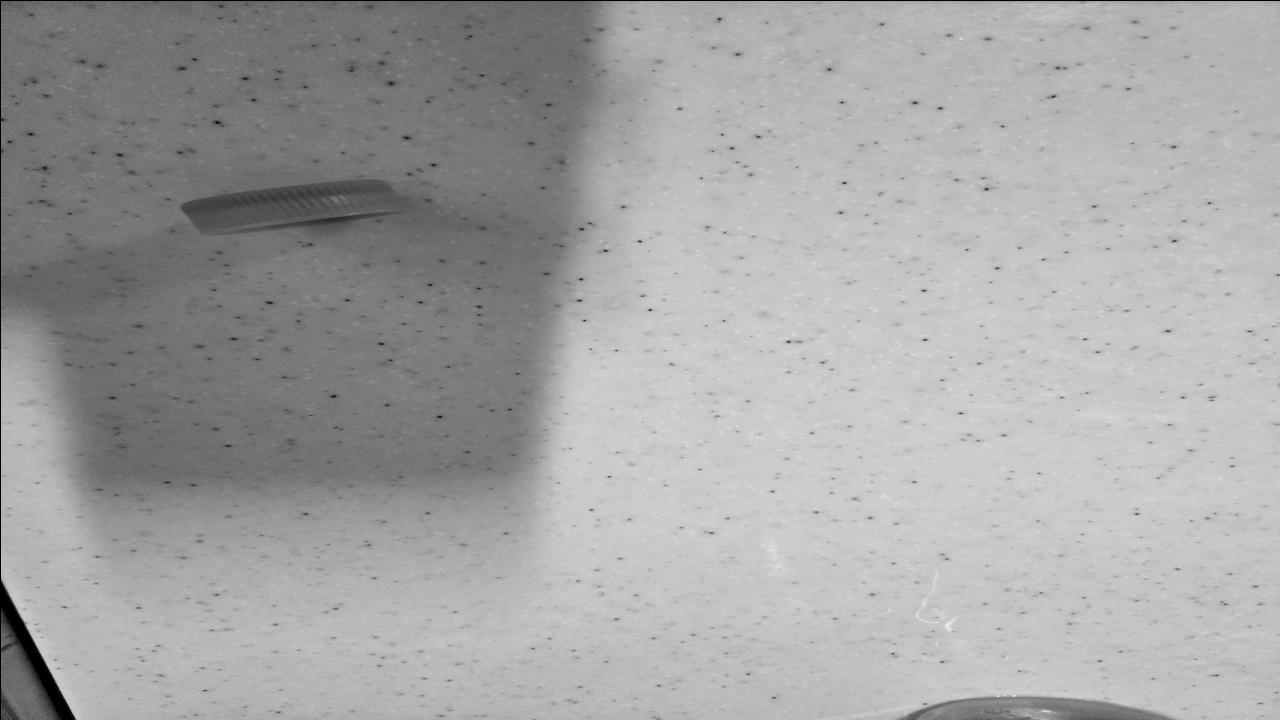bottle_cap: (182, 178, 410, 235)
